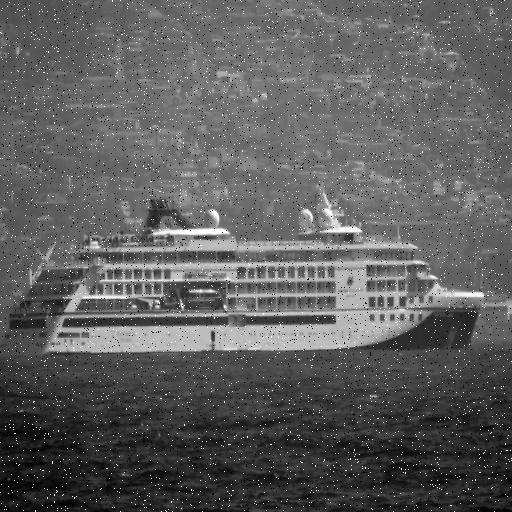cruises: (1, 189, 488, 361)
